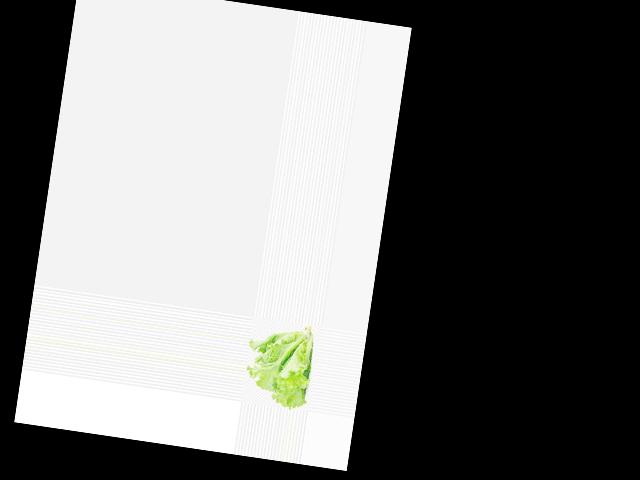lettuce: (241, 317, 315, 410)
